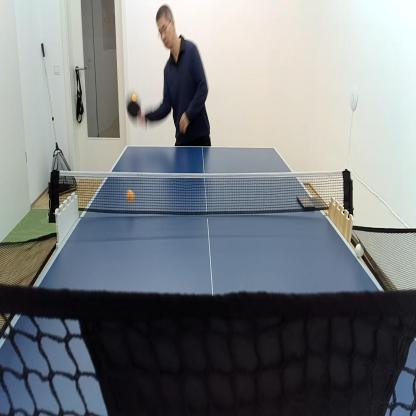Ball: (354, 242, 365, 260), (126, 188, 136, 203), (131, 92, 138, 104)
